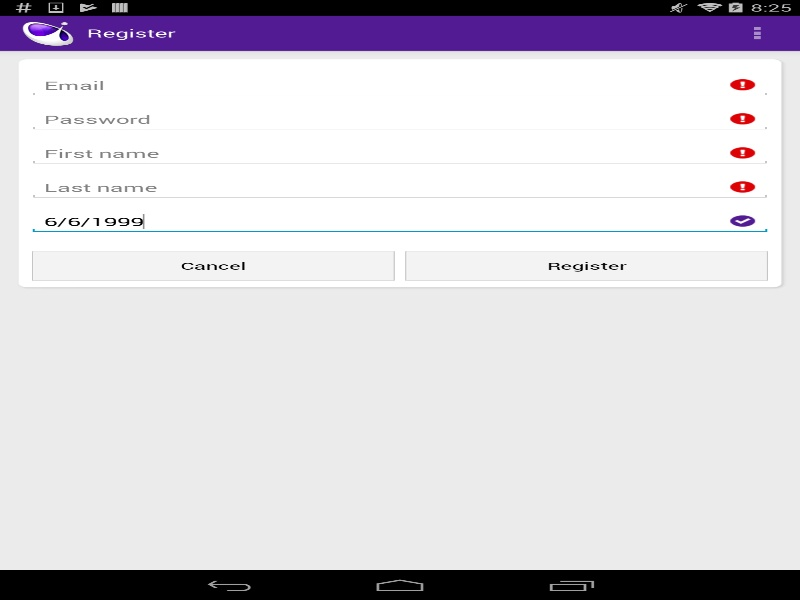Button: (405, 250, 768, 280), (32, 250, 394, 280), (714, 15, 800, 50)
Input: (28, 175, 772, 200), (28, 209, 772, 234), (28, 73, 772, 97), (28, 107, 772, 131), (28, 141, 772, 165)
